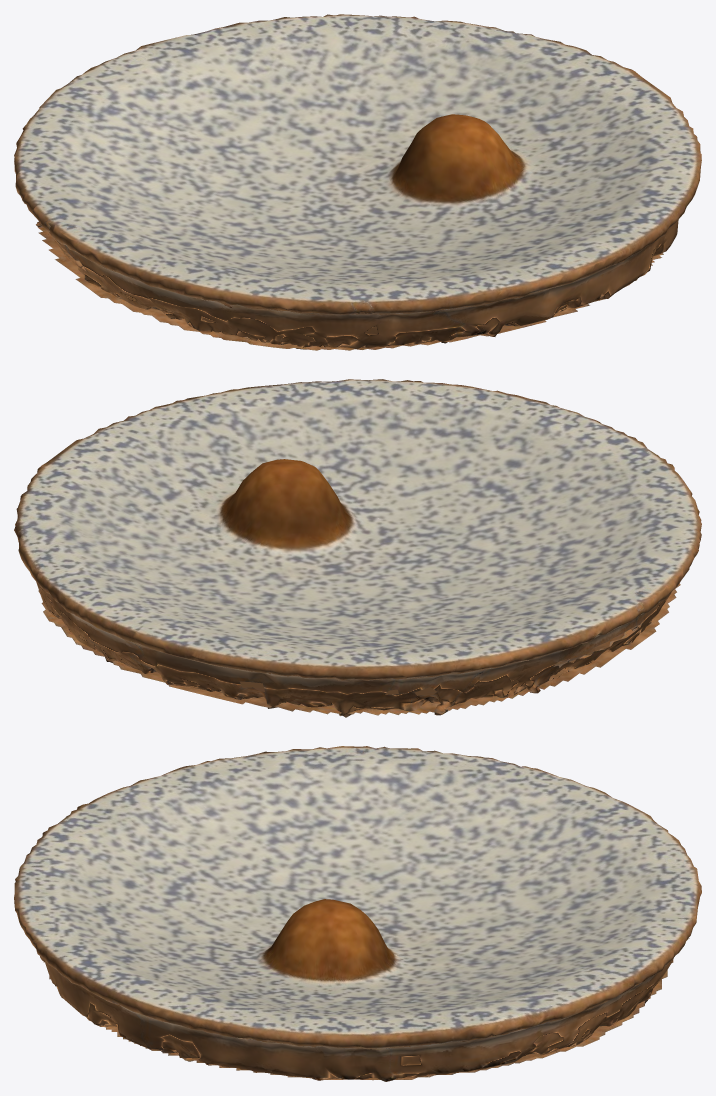
3 renders of one model, top to bottom at view 1: azimuth 30°, elevation 25°; view 2: azimuth 150°, elevation 25°; view 3: azimuth 270°, elevation 25°, orthographic.
Visible parts, largest first — view 1: dish; view 2: dish; view 3: dish.
Boxes of the visible parts, bbox=[...] form: dish: bbox=[14, 14, 701, 350]; dish: bbox=[14, 379, 701, 717]; dish: bbox=[14, 746, 701, 1081].
Bounding box in the file's own units: 0.2428 × 0.0348 × 0.2425.
Materials: 1 (1 with a texture image).
